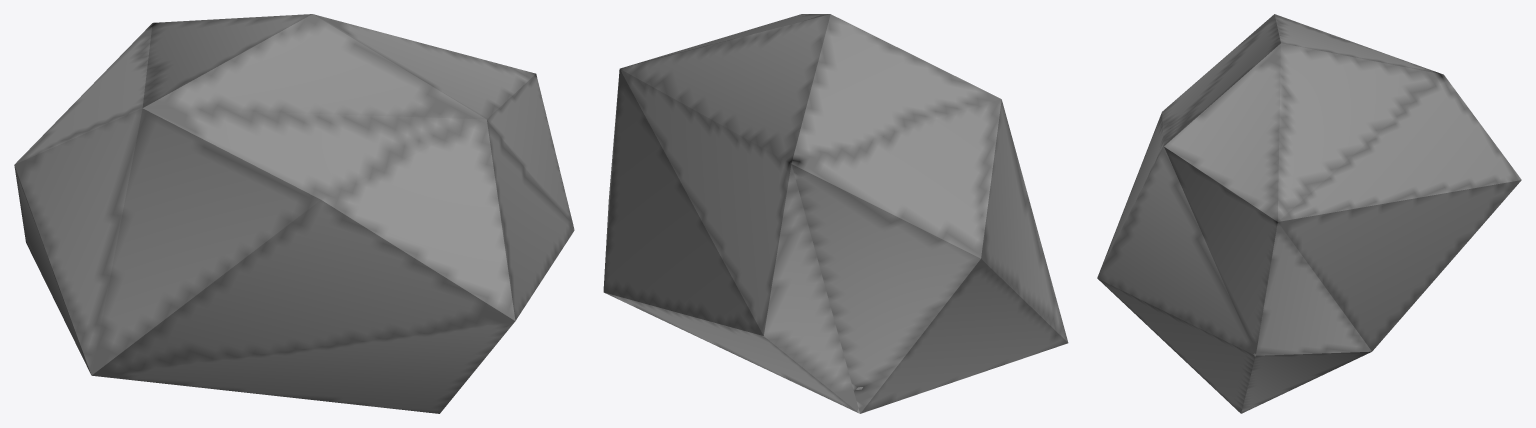
The model's file is Roca03_Textured.FBX.
The picture shows the model from 3 angles, left to right: view 1: azimuth 30°, elevation 25°; view 2: azimuth 150°, elevation 25°; view 3: azimuth 270°, elevation 25°; orthographic projection. The views are drawn at different scales.
Parts seen in each view (by area): view 1: Roca03; view 2: Roca03; view 3: Roca03.
Boxes of the visible parts, x1,y1,x2,y2 form: Roca03: (14,14,574,413); Roca03: (603,14,1068,413); Roca03: (1097,14,1521,413).
Bounding box in the file's own units: 261 × 211 × 246.
